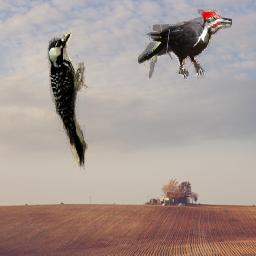Woodpecker: (43, 27, 94, 175), (138, 10, 232, 83)
